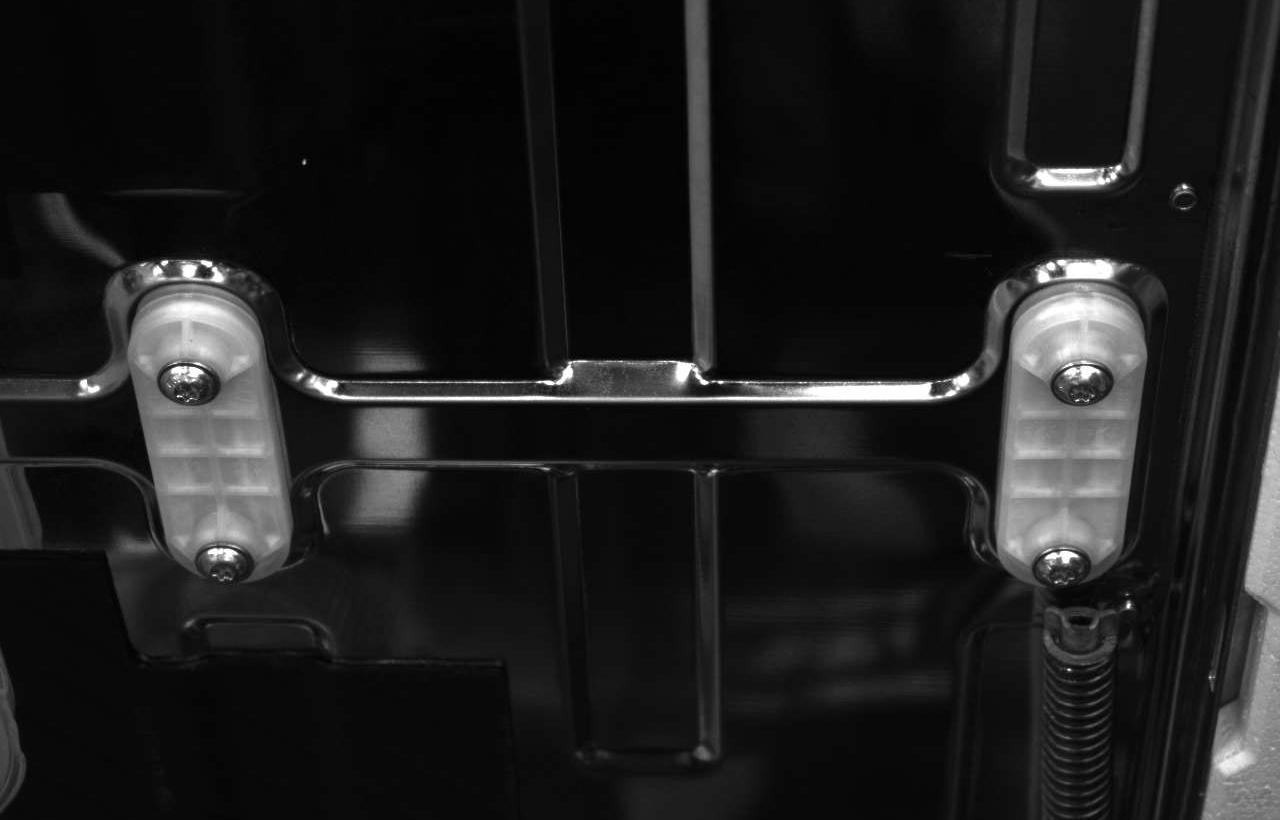vida-ok: (153, 345, 224, 412), (1047, 351, 1114, 418), (1031, 532, 1097, 591), (196, 527, 261, 585)
